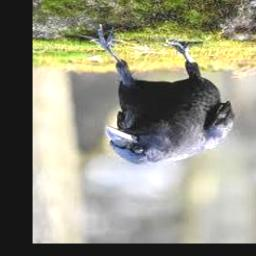Crow: (83, 24, 236, 164)
